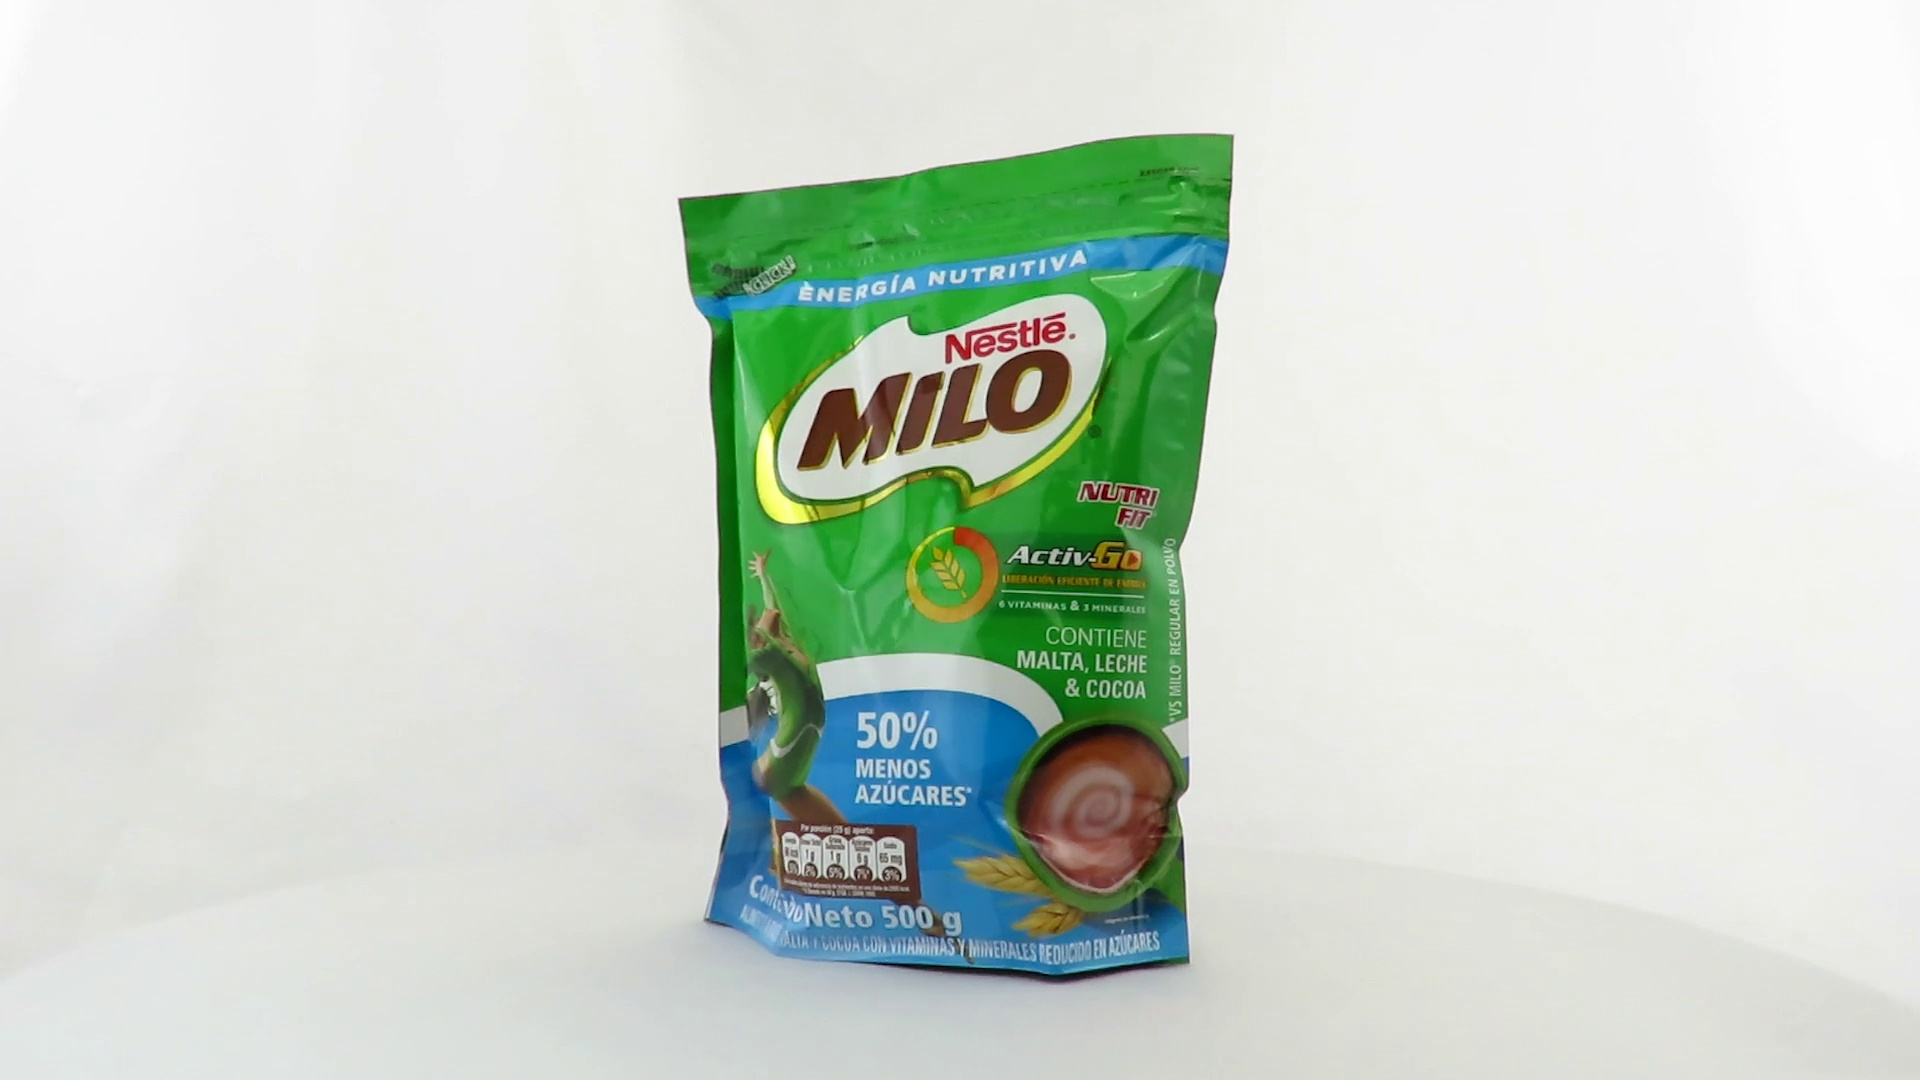COL0170205DYP50000: (673, 128, 1240, 992)
